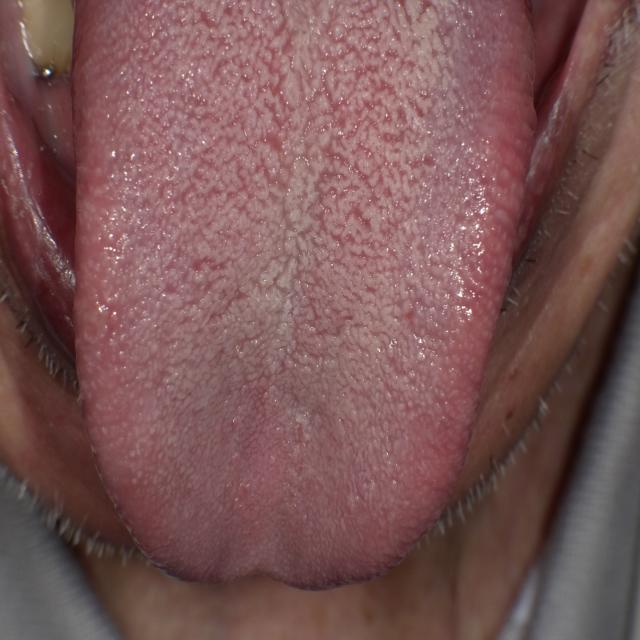baitaishe: (72, 3, 535, 590)
xinfeiao: (199, 534, 321, 590)
